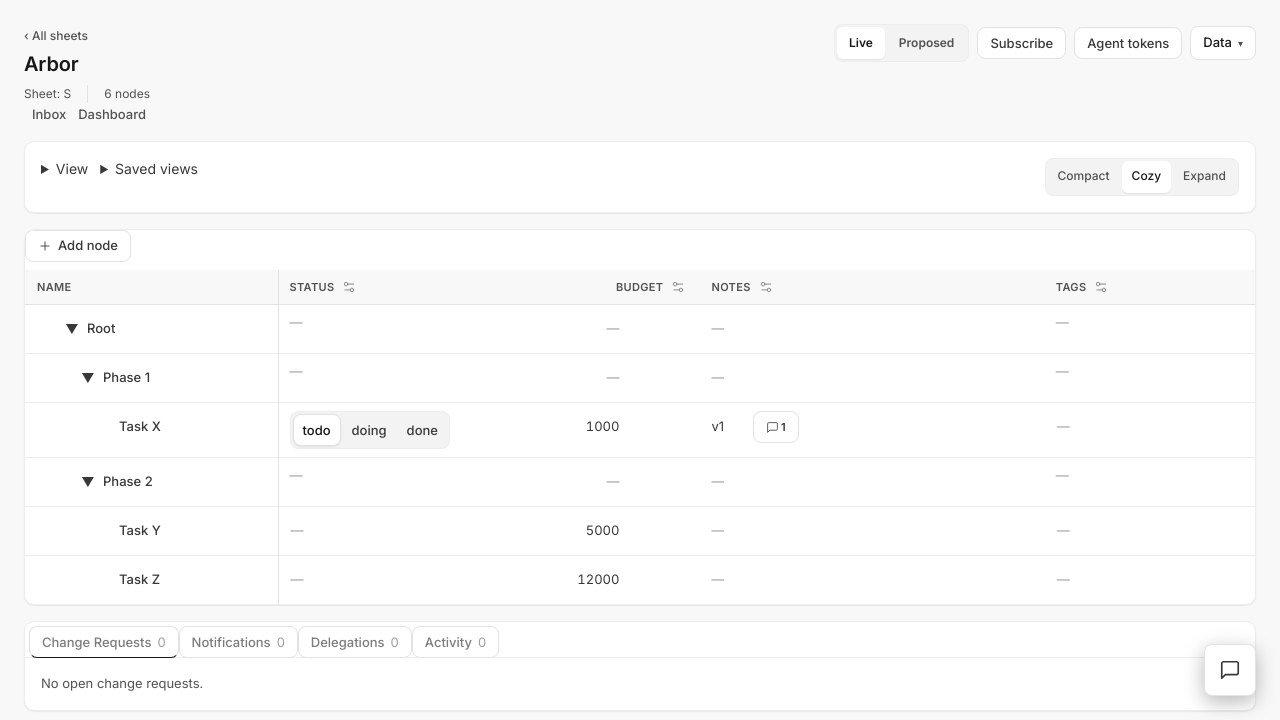
it: App — CommentDrawer wiring (Feature: comments) › clicking a cell's comment glyph opens the drawer with the loaded thread
Check: the table with test id "tree-table" is shown, box [25,270,1255,604]
Click the button with test id "comment-glyph": (776, 427) [753,411,799,443]
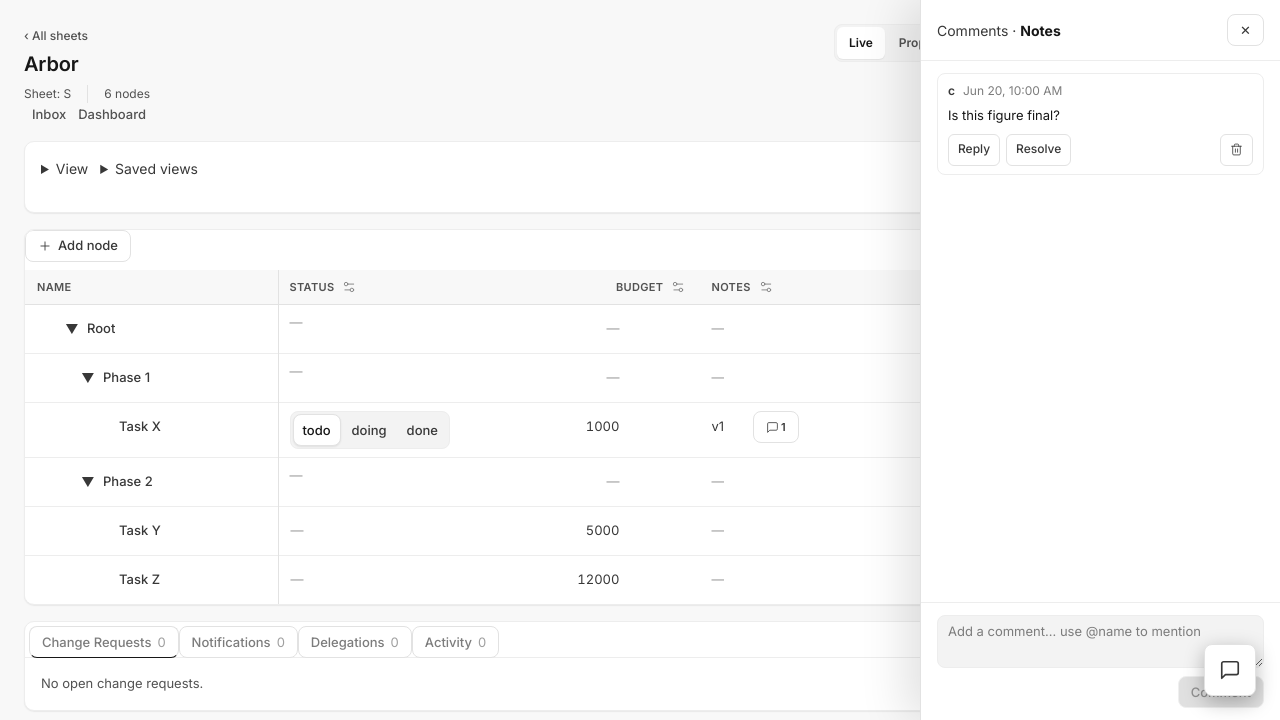
Check: the text "Is this figure final?" is shown, box [948,107,1060,123]
